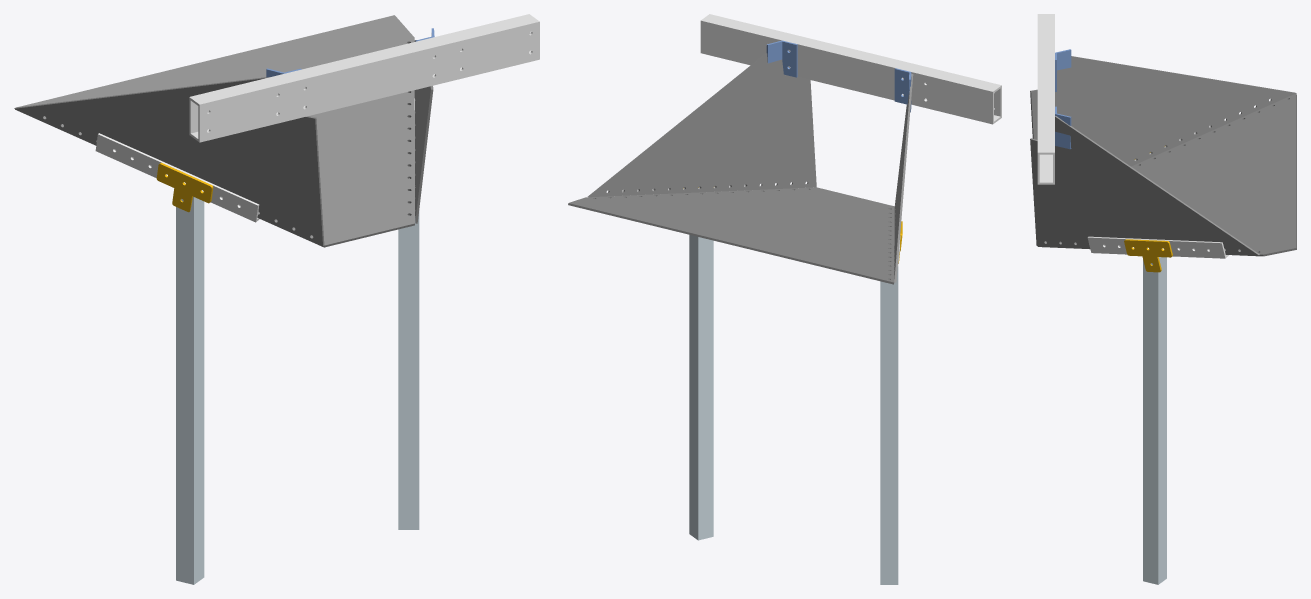
Rendered from 5959ActualFunnel.fbx.
3 views of the same model, side by side, from view 1: azimuth 30°, elevation 25°; view 2: azimuth 150°, elevation 25°; view 3: azimuth 270°, elevation 25° (orthographic). The views are drawn at different scales.
Parts seen in each view (by area): view 1: Part 1, Part 4, Zero Stage Top Horizontal Tube, Part 9.001, Part 9, Part 7.001, Part 5, Part 8; view 2: Part 5, Part 1, Zero Stage Top Horizontal Tube, Part 9, Part 9.001, Part 4, Part 6.001, Part 6; view 3: Part 1, Part 4, Part 5, Part 9, Zero Stage Top Horizontal Tube, Part 7, Part 8.001, Part 6, Part 6.001.
Boxes of the visible parts, x1=… form: Part 1: x1=15, y1=15, x2=414, y2=247; Part 4: x1=14, y1=77, x2=324, y2=246; Zero Stage Top Horizontal Tube: x1=189, y1=14, x2=539, y2=142; Part 9.001: x1=176, y1=196, x2=204, y2=584; Part 9: x1=398, y1=191, x2=419, y2=529; Part 7.001: x1=95, y1=133, x2=259, y2=222; Part 5: x1=414, y1=40, x2=433, y2=223; Part 8: x1=156, y1=162, x2=213, y2=212; Part 5: x1=587, y1=53, x2=816, y2=197; Part 1: x1=568, y1=187, x2=894, y2=284; Zero Stage Top Horizontal Tube: x1=700, y1=14, x2=1001, y2=124; Part 9: x1=689, y1=235, x2=713, y2=540; Part 9.001: x1=880, y1=266, x2=898, y2=584; Part 4: x1=894, y1=74, x2=913, y2=282; Part 6.001: x1=766, y1=40, x2=797, y2=77; Part 6: x1=894, y1=68, x2=911, y2=112; Part 1: x1=1038, y1=93, x2=1296, y2=256; Part 4: x1=1030, y1=56, x2=1295, y2=166; Part 5: x1=1030, y1=116, x2=1259, y2=255; Part 9: x1=1143, y1=257, x2=1166, y2=584; Zero Stage Top Horizontal Tube: x1=1037, y1=14, x2=1054, y2=184; Part 7: x1=1087, y1=236, x2=1228, y2=258; Part 8.001: x1=1124, y1=239, x2=1172, y2=272; Part 6: x1=1055, y1=49, x2=1071, y2=91; Part 6.001: x1=1055, y1=106, x2=1071, y2=149.
Size of the model in its own units: 53.37 by 72.31 by 38.68.
